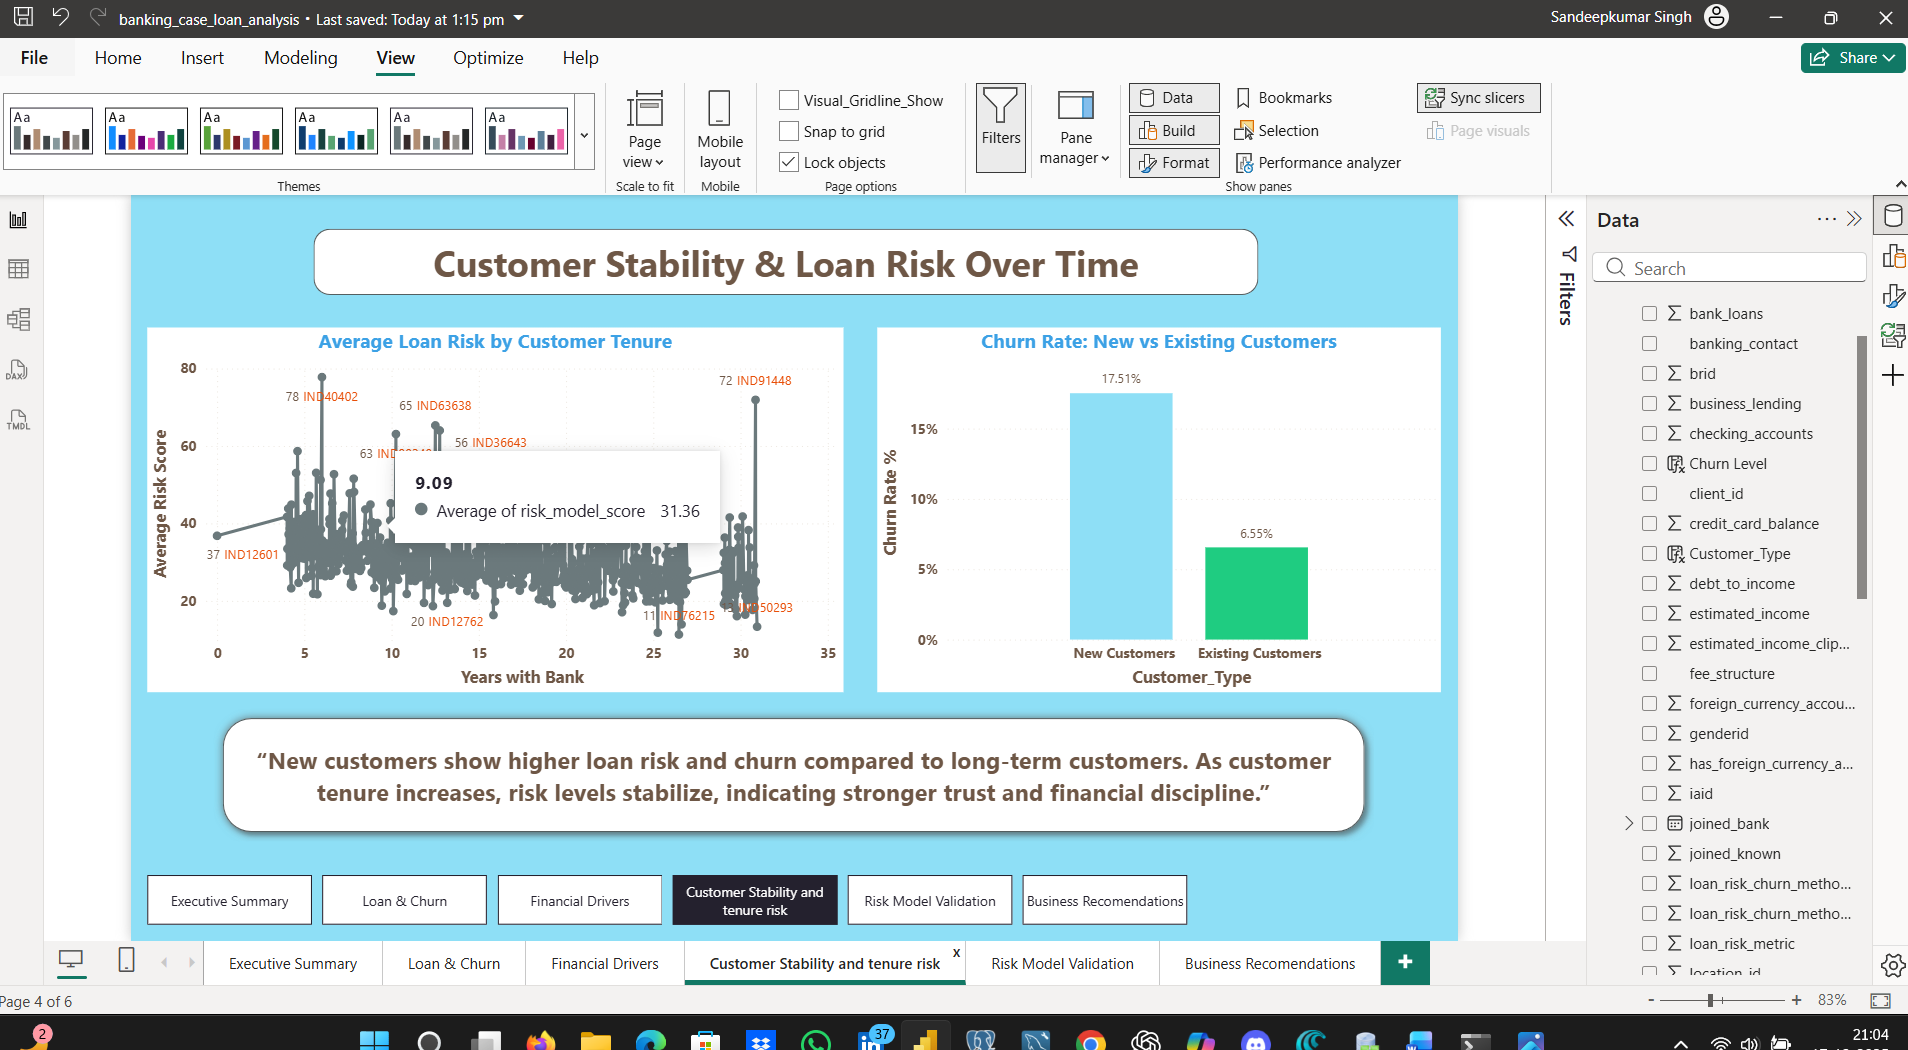

The dashboard page shown, as its layout file describes it:
{"tool":"powerbi","page":{"name":"Customer Stability and tenure risk","canvas":[1280,720],"ordinal":3},"visuals":[{"type":"lineChart","title":"Average Loan Risk by Customer Tenure","fields":{"Category":["banking_case customers_cleaned.years_with_bank"],"Y":["Avg(banking_case customers_cleaned.risk_model_score)"]},"box":[16,128,672,352],"z":0},{"type":"clusteredColumnChart","title":"Churn Rate: New vs Existing Customers","fields":{"Category":["banking_case customers_cleaned.Customer_Type"],"Y":["Measures (2).Average_Churn %"]},"box":[720,128,544,352],"z":1000},{"type":"shape","box":[80,496,1120,128],"z":2000},{"type":"shape","box":[176,32,912,64],"z":3000},{"type":"pageNavigator","box":[16,656,1008,48],"z":4000}]}

Visuals, with their boxes on the page's 1280x720 design canvas (x1, y1, x2, y2). These are canvas units, not pixel positions in the 1908x1050 screenshot, which may show the page scaled, cropped or inside an application window:
"Average Loan Risk by Customer Tenure" lineChart: box=[16, 128, 688, 480]
"Churn Rate: New vs Existing Customers" clusteredColumnChart: box=[720, 128, 1264, 480]
shape: box=[80, 496, 1200, 624]
shape: box=[176, 32, 1088, 96]
pageNavigator: box=[16, 656, 1024, 704]
